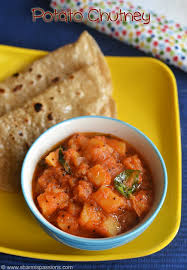curry: (38, 134, 158, 239)
roti: (2, 30, 112, 166)
